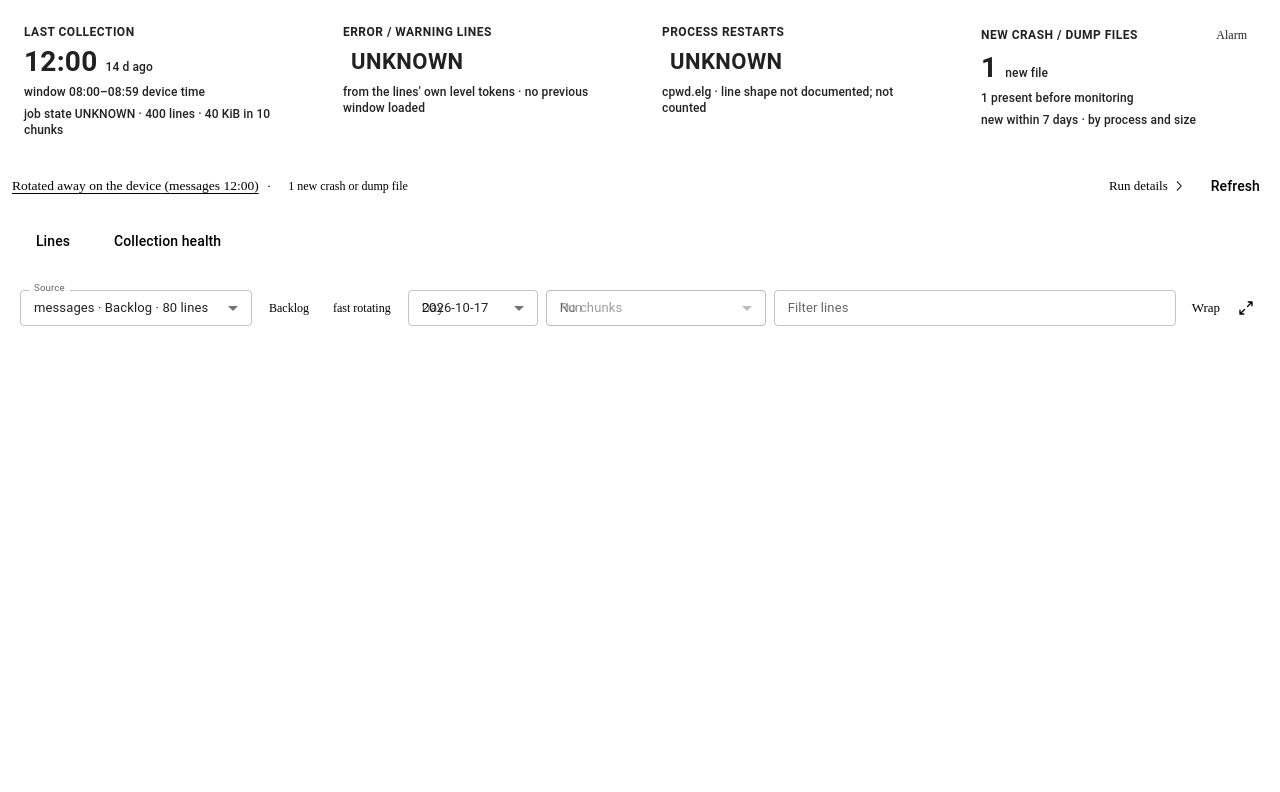
Test: summary strip, source pills and side panel › shows Spike Detective data as name classes, device time and sizes only when the source is collected
Click the tab "Collection health" at [168, 242], box x1=98 y1=218 x2=237 y2=266
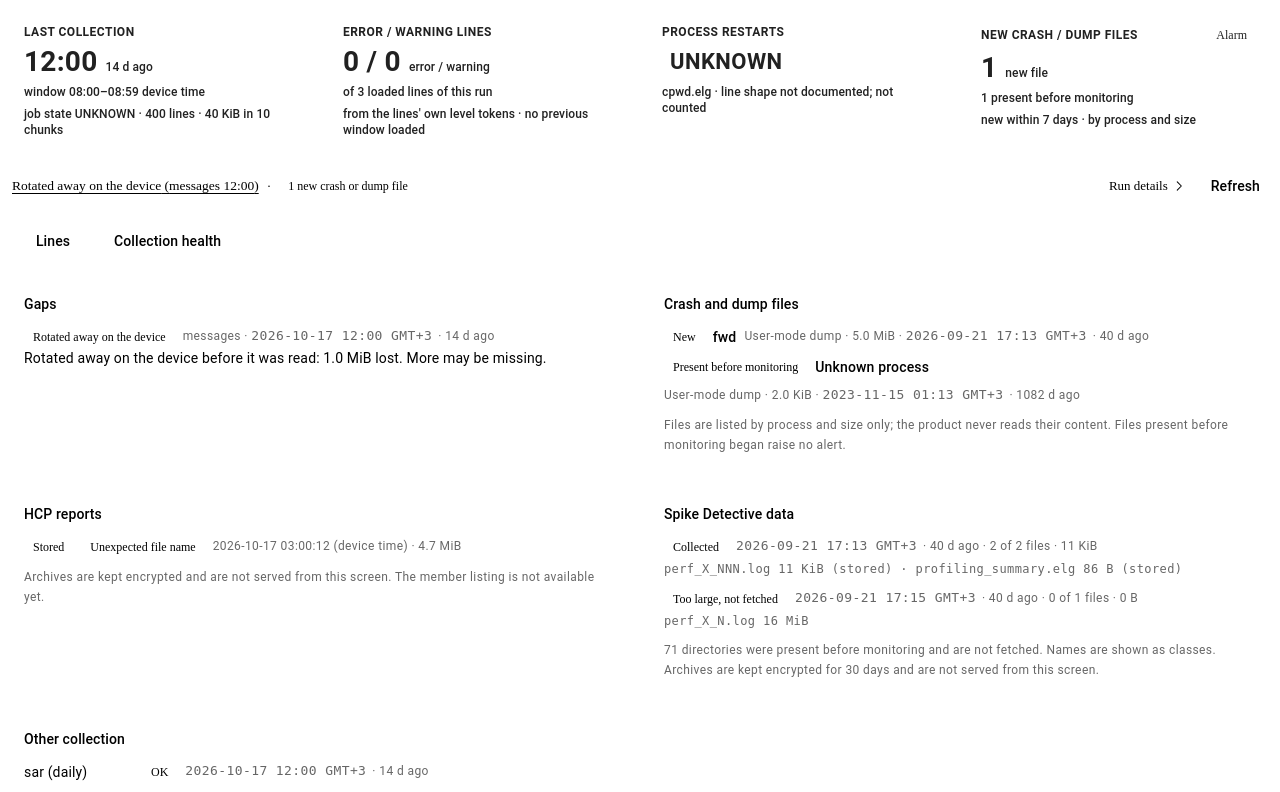
Check: the heading "Spike Detective data" is shown, box x1=664 y1=506 x2=794 y2=522
Check: the text "Collected" is shown, box x1=673 y1=540 x2=719 y2=554
Check: the text "Too large, not fetched" is shown, box x1=664 y1=588 x2=787 y2=610
